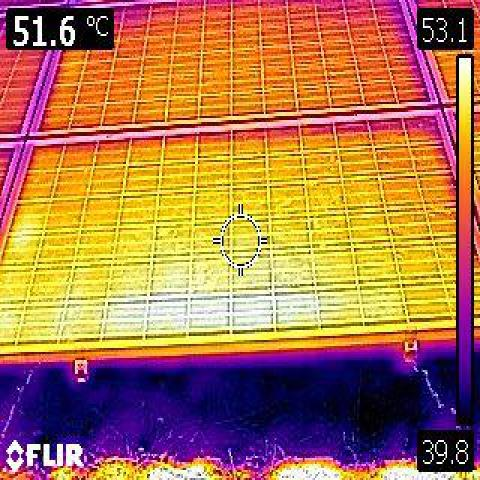fault: (124, 291, 315, 329)
